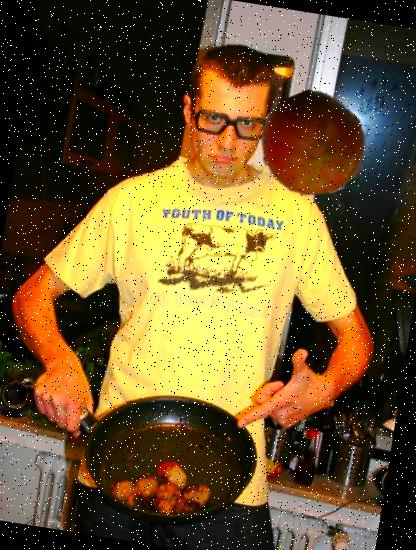Nut: (253, 85, 373, 204)
